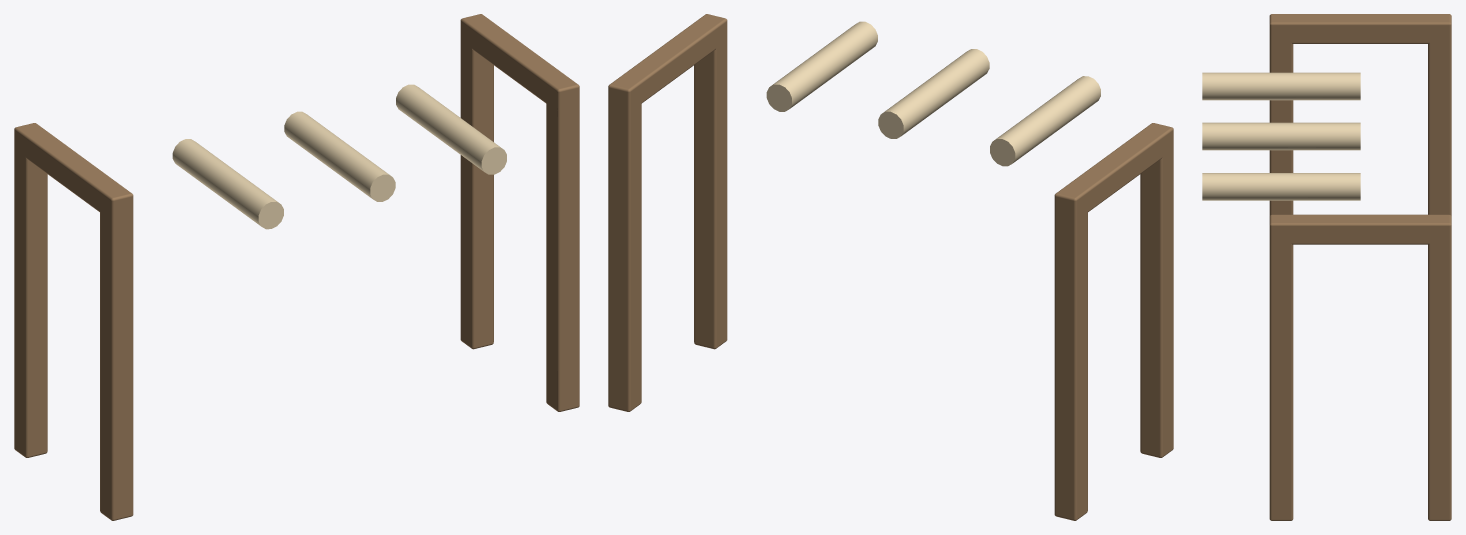
The model's file is marquetry-and-veneer-inlay-workshop-leaf-handling-supp-b5c060b0__39090.glb.
The picture shows the model from 3 angles, left to right: view 1: azimuth 30°, elevation 25°; view 2: azimuth 150°, elevation 25°; view 3: azimuth 270°, elevation 25°; orthographic projection. The views are drawn at different scales.
Parts seen in each view (by area): view 1: leaf-handling-support-frame; view 2: leaf-handling-support-frame; view 3: leaf-handling-support-frame.
Boxes of the visible parts, x1,y1,x2,y2 form: leaf-handling-support-frame: (14,14,579,520); leaf-handling-support-frame: (608,14,1173,520); leaf-handling-support-frame: (1202,14,1451,520).
Bounding box in the file's own units: 1.26 × 0.8301 × 0.63.
